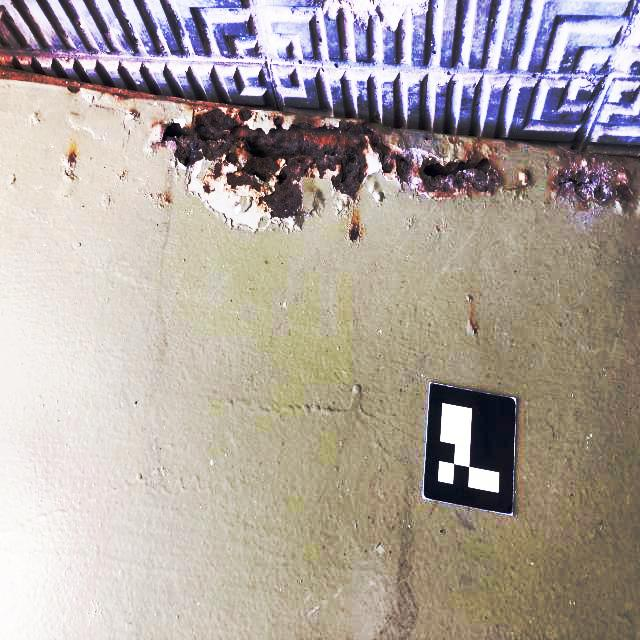Corrosion: (161, 106, 503, 220), (0, 66, 224, 110), (552, 151, 636, 207), (348, 222, 361, 242), (521, 170, 530, 187), (67, 151, 77, 166), (470, 319, 478, 334), (505, 139, 517, 148), (449, 136, 455, 145), (166, 197, 171, 204)
